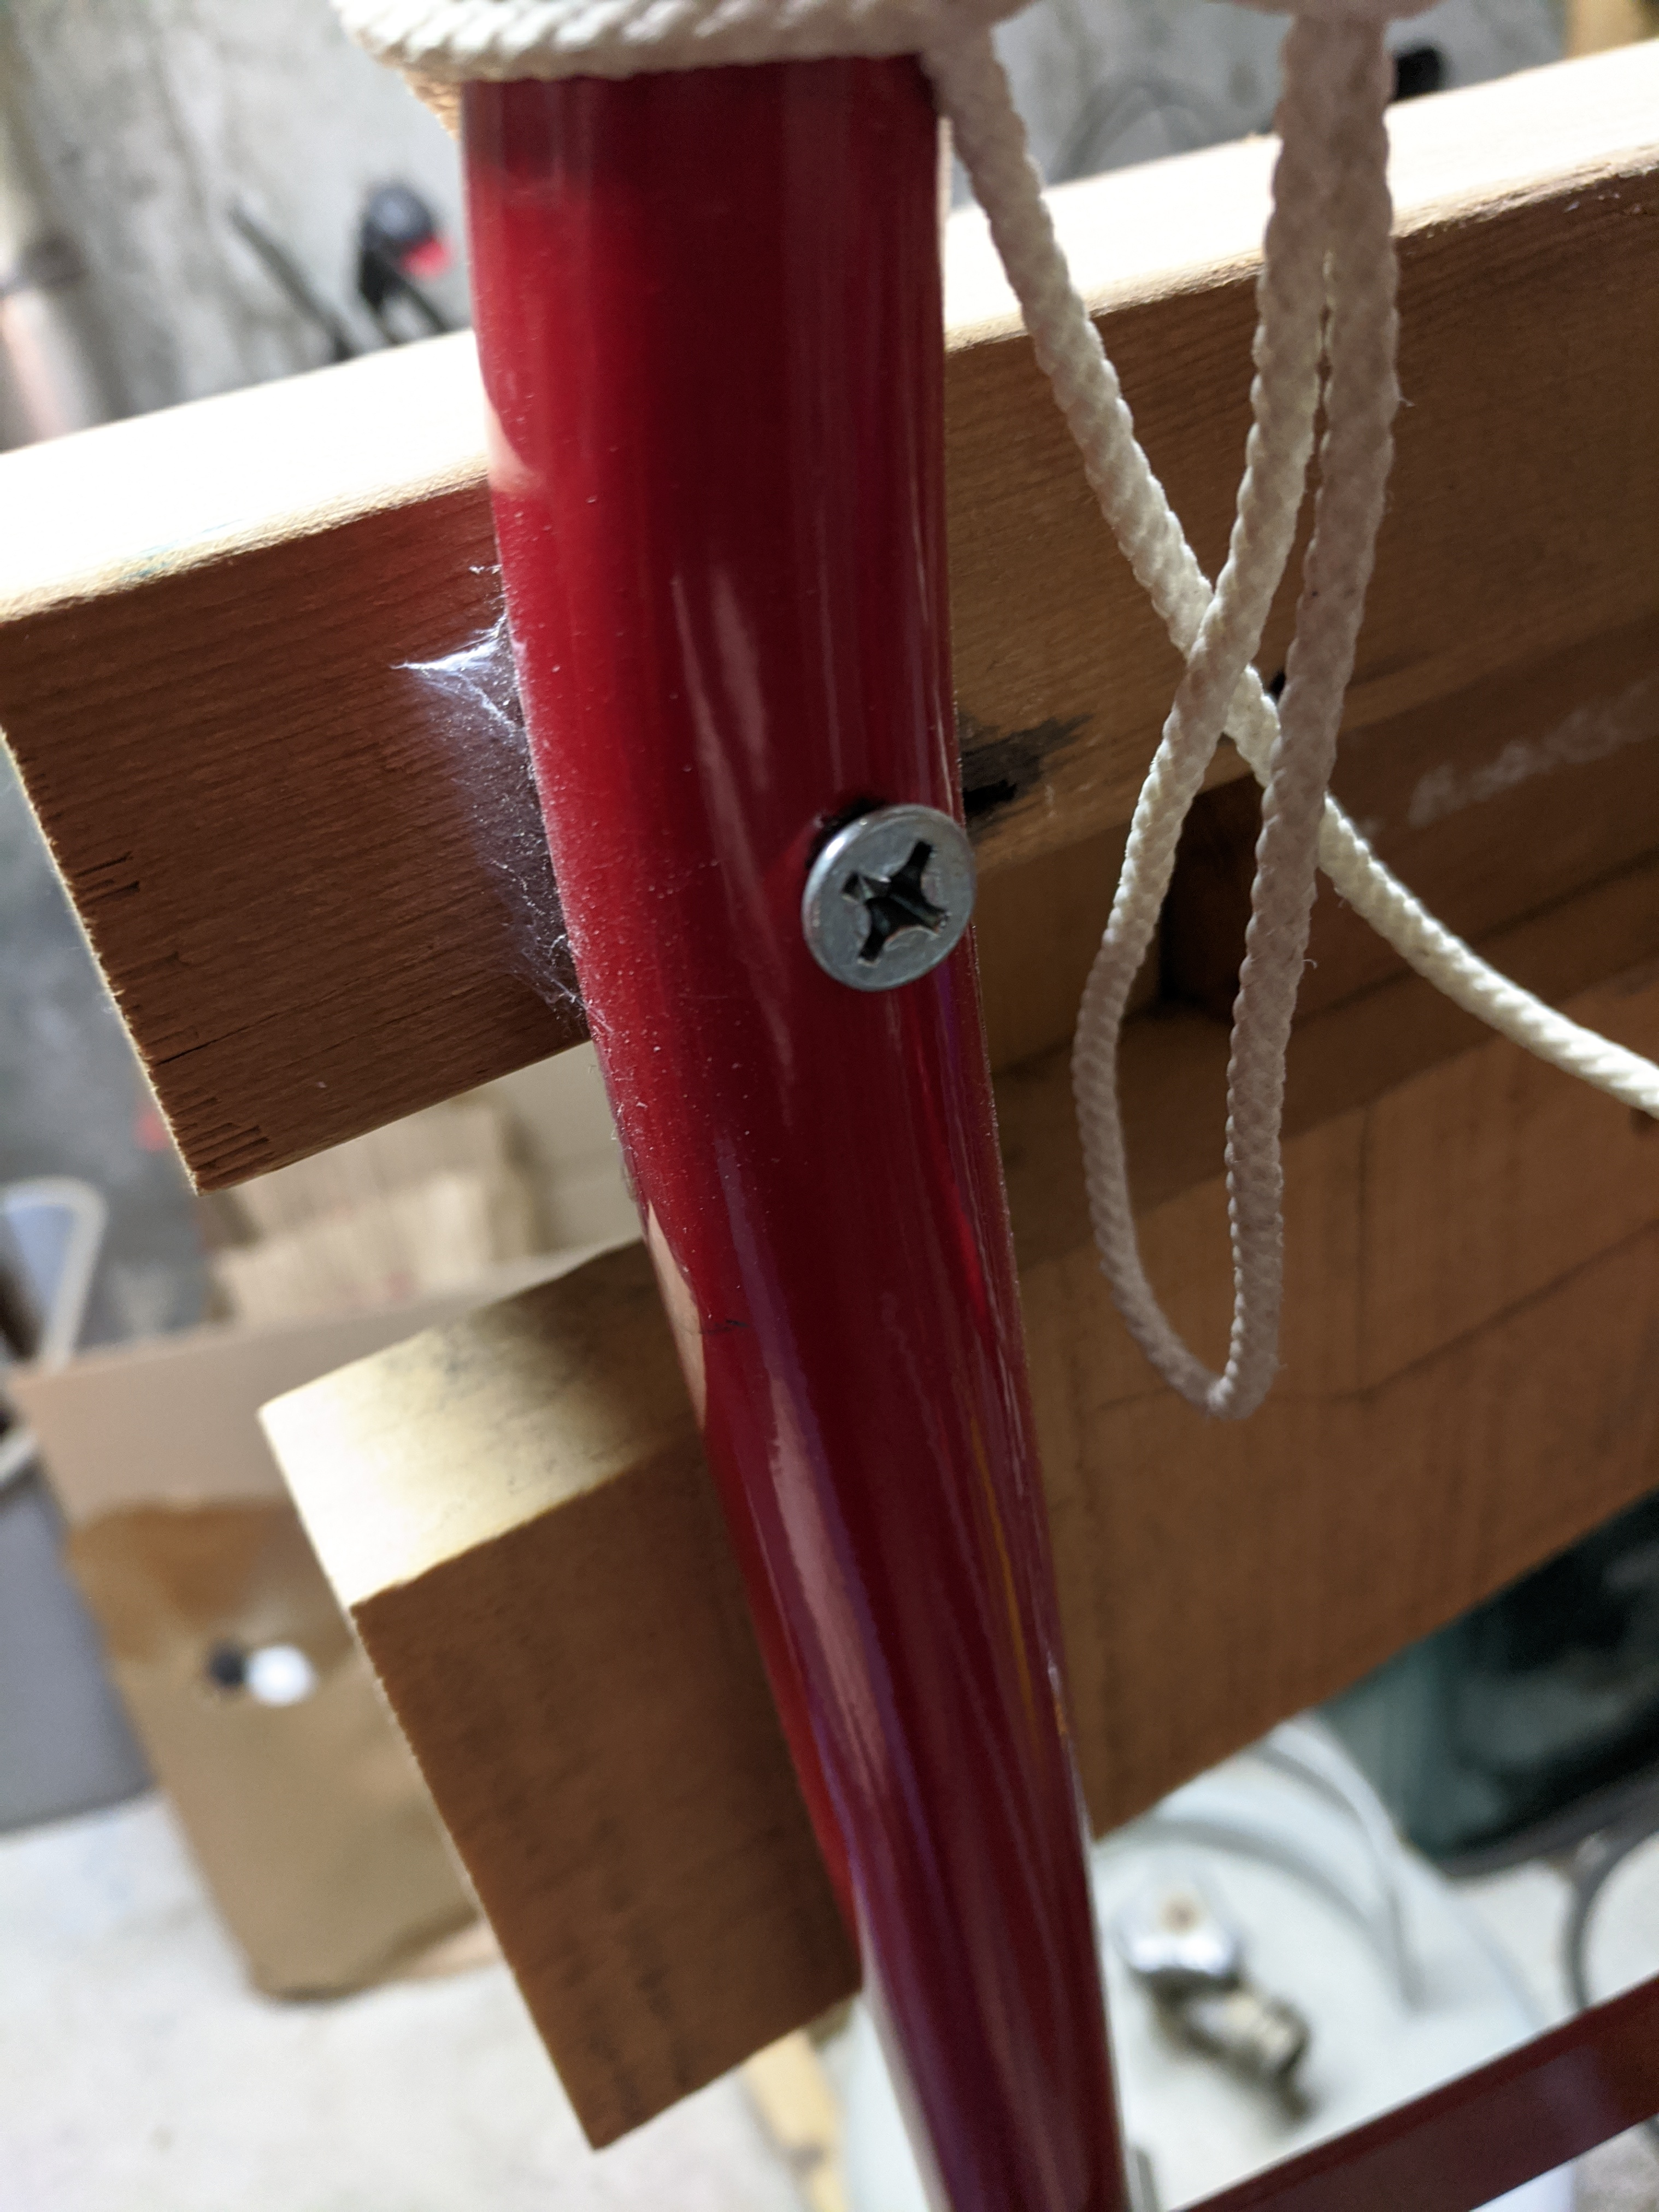cross_recessed_screw: (802, 791, 979, 975)
